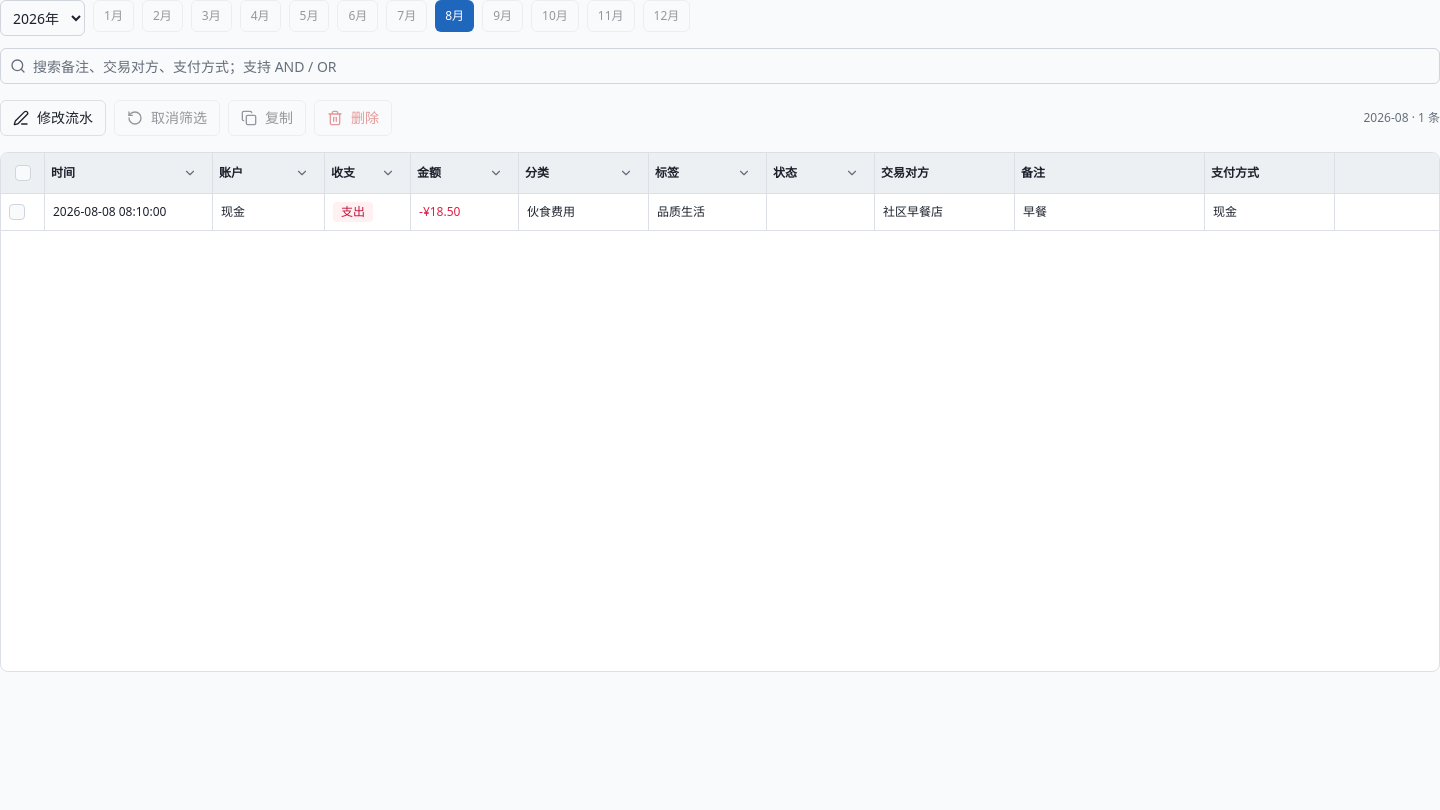
Test: TransactionsPage editing › shows save failures in a modal and keeps the draft editable
Click the button "修改流水" at point(53, 118), box [0,100,106,136]
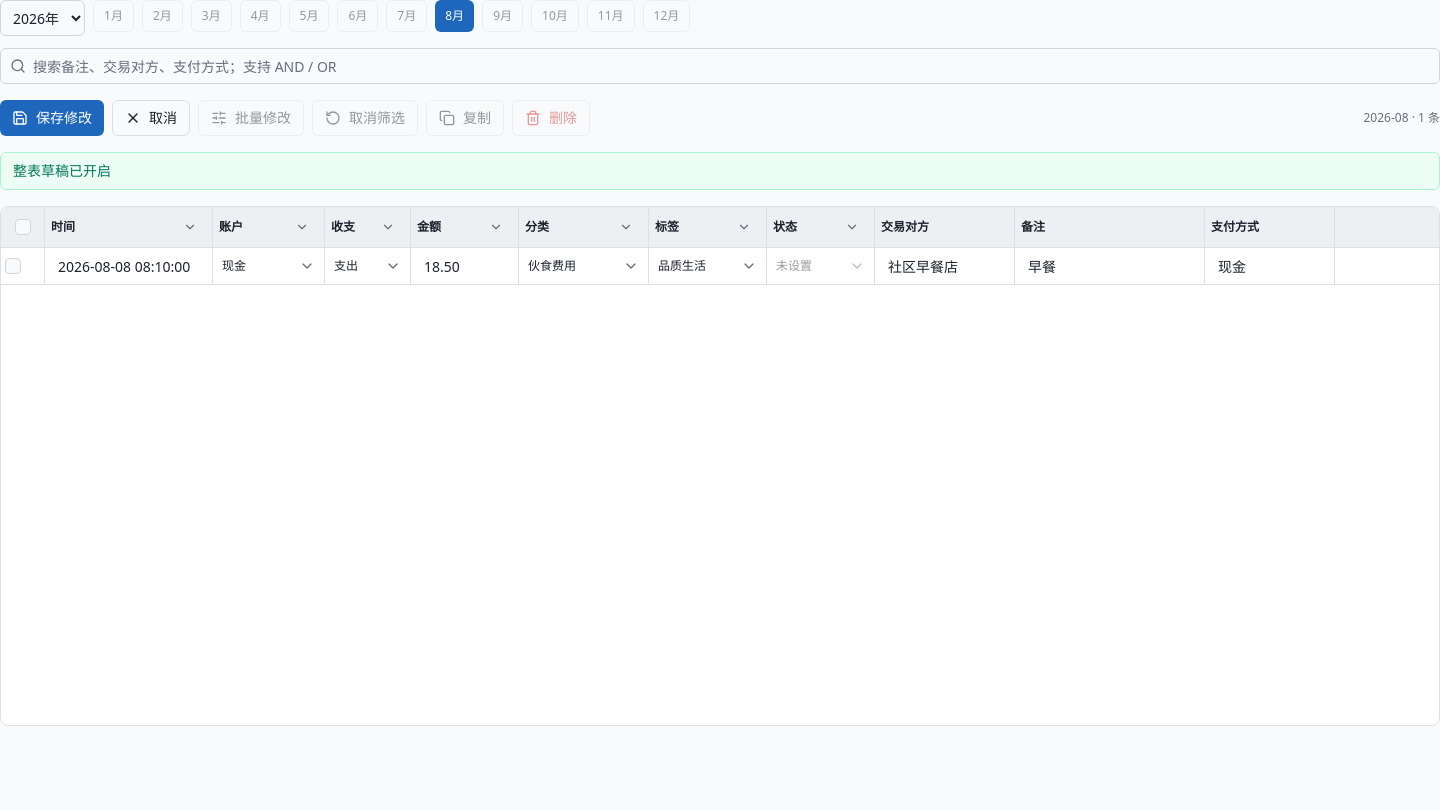
Replace the text in the 3rd field showing "早餐" with "退款草稿" at point(1110, 266), box [1019,250,1200,282]
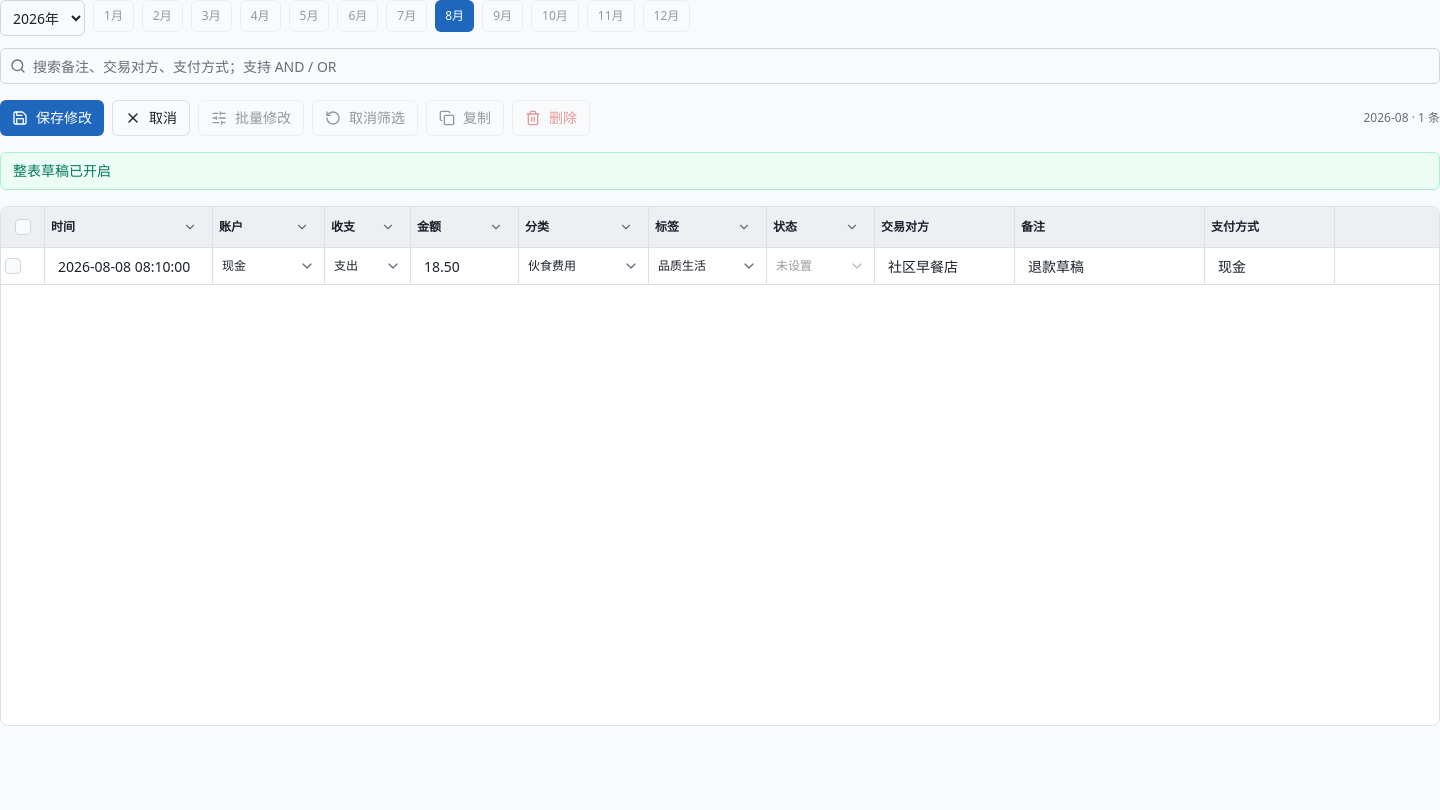
Click the button "保存修改" at point(52, 118), box [0,100,104,136]
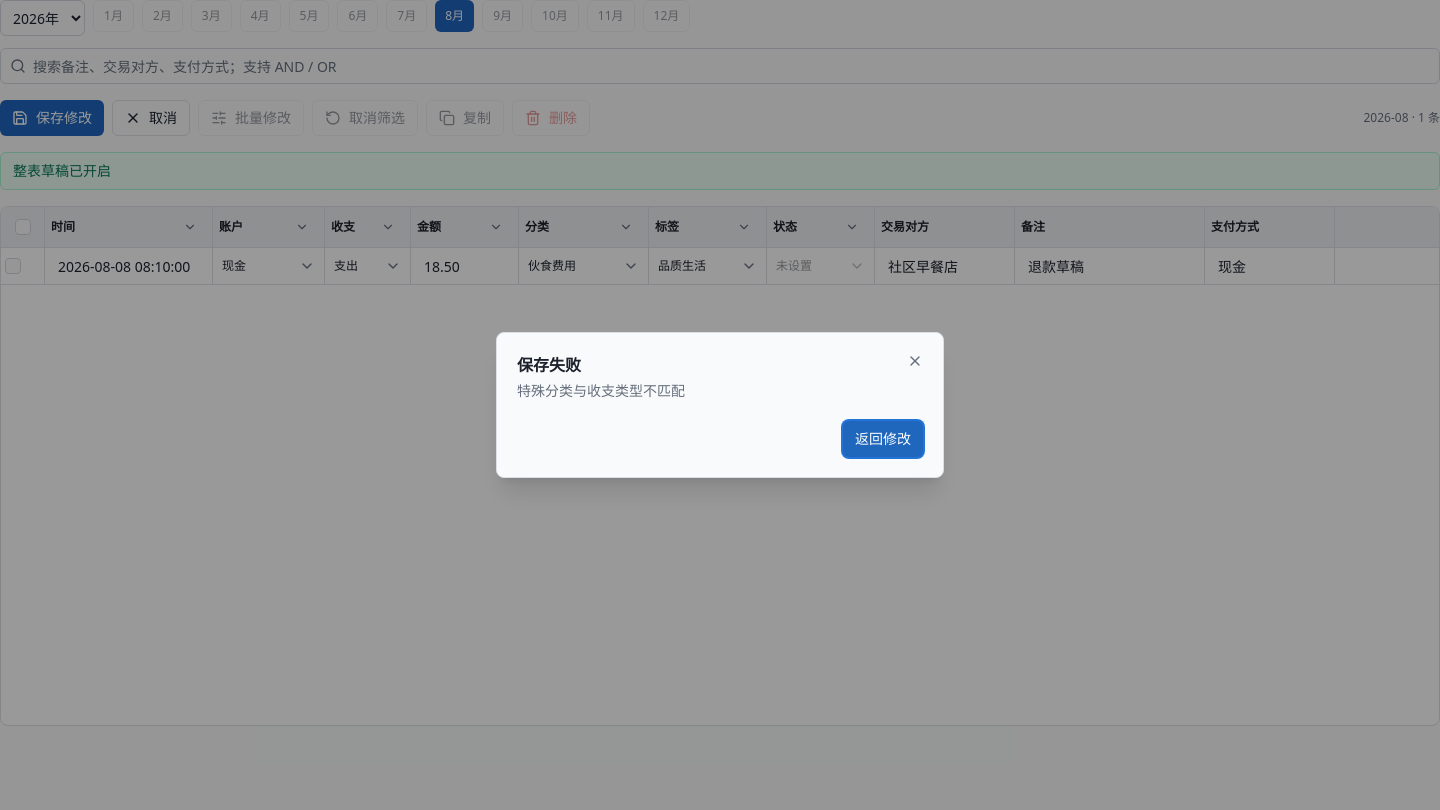
Expected: the dialog is shown, [496,332,944,478]
Expected: the text "特殊分类与收支类型不匹配" is shown, [517,381,685,400]
Click the button "返回修改" at point(883, 439), box [843,421,923,457]
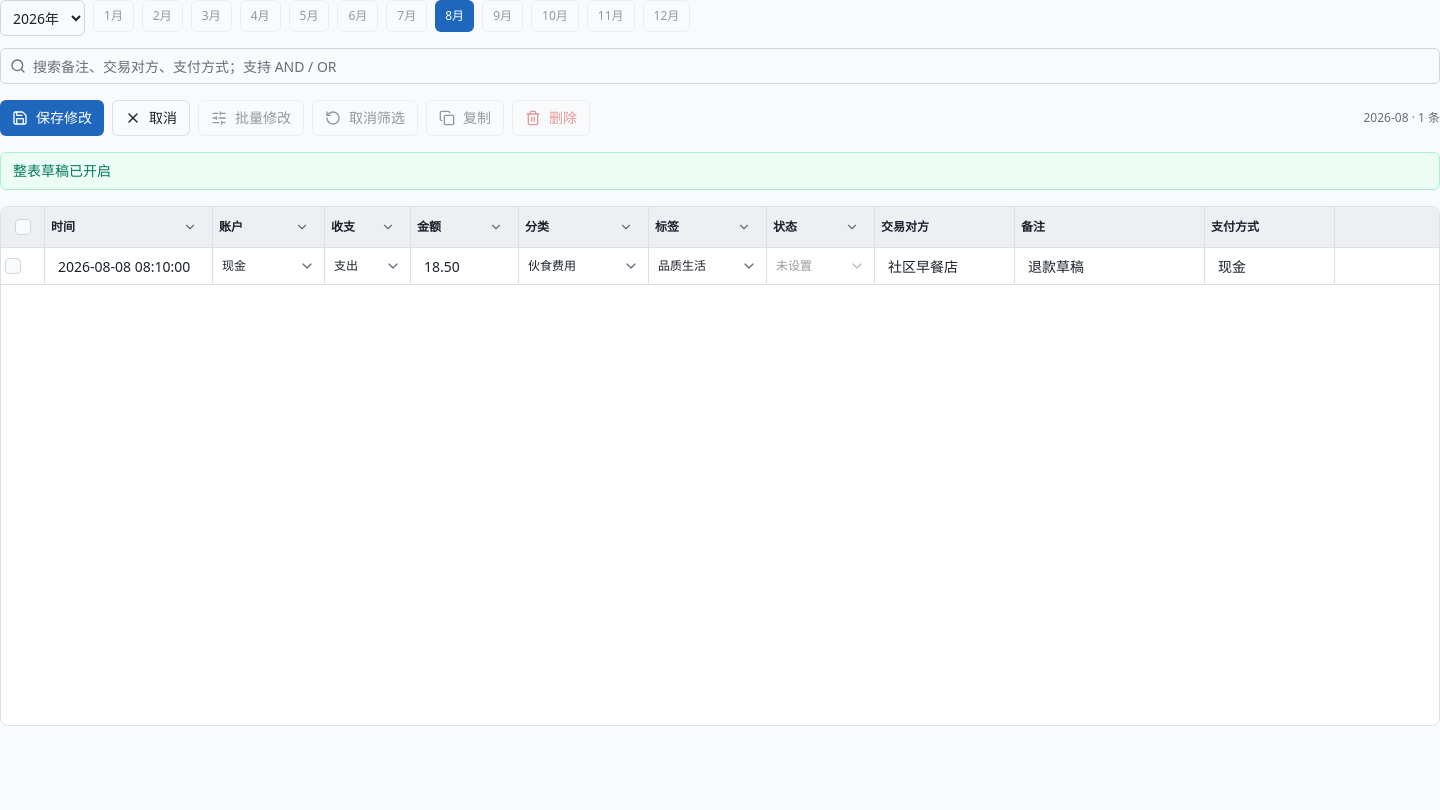
Expected: the button "保存修改" is shown, [0,100,104,136]
Expected: the dialog is gone
